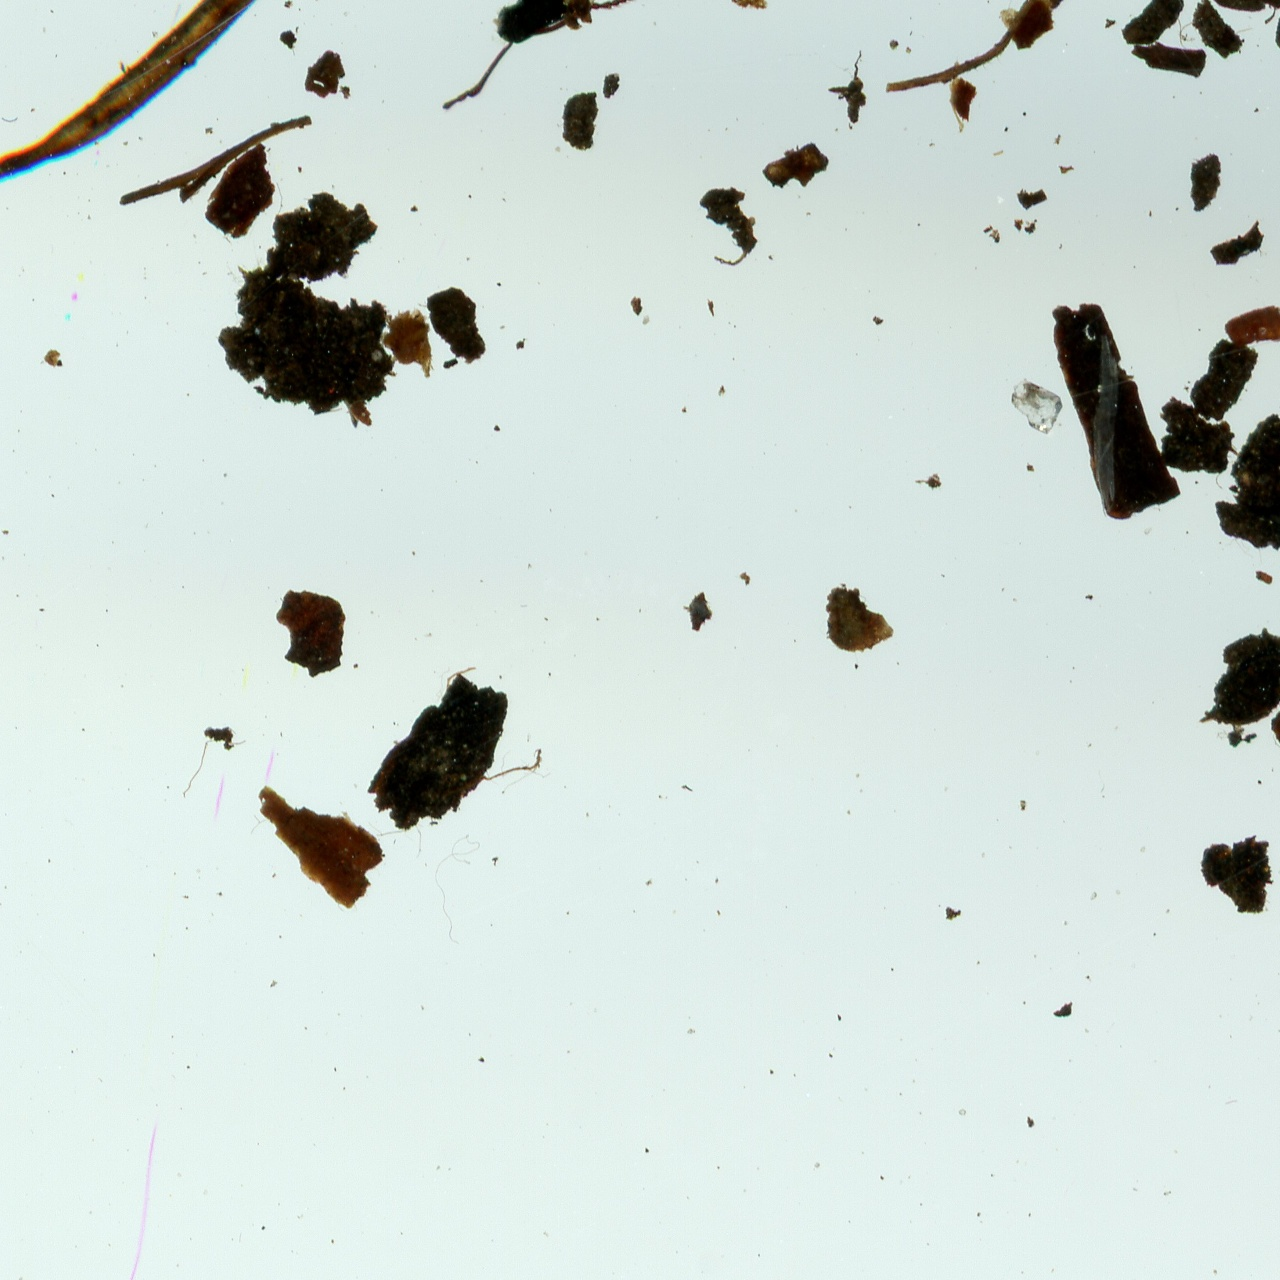arthropod: (339, 0, 697, 120)
